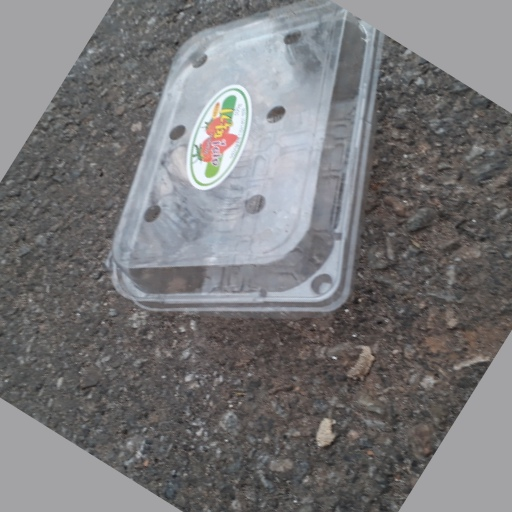Plastic_4: (104, 1, 385, 320)
